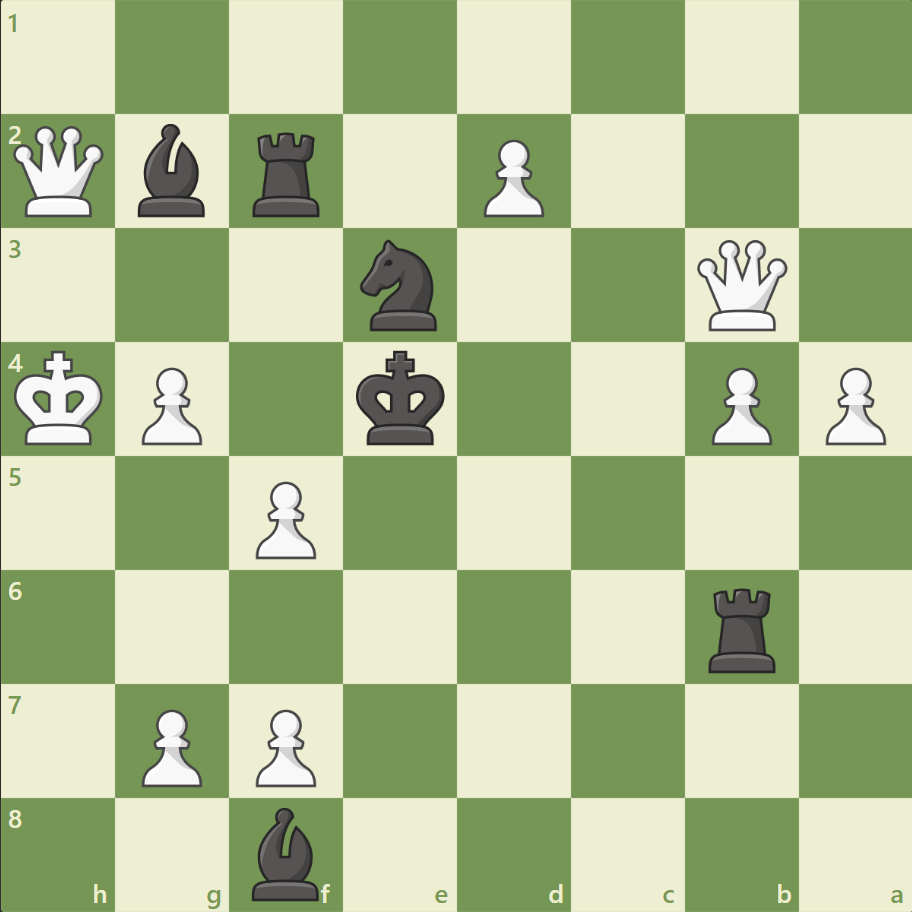K: (11, 344, 111, 452)
P: (247, 700, 322, 791), (133, 700, 208, 791), (247, 473, 322, 564), (701, 359, 776, 450), (133, 359, 208, 450), (474, 132, 549, 223), (815, 359, 889, 450)
Q: (10, 122, 109, 222), (691, 236, 790, 335)
b: (244, 801, 328, 904), (131, 120, 215, 222)
k: (351, 344, 451, 452)
n: (351, 234, 449, 337)
r: (700, 579, 783, 676), (246, 125, 329, 222)
